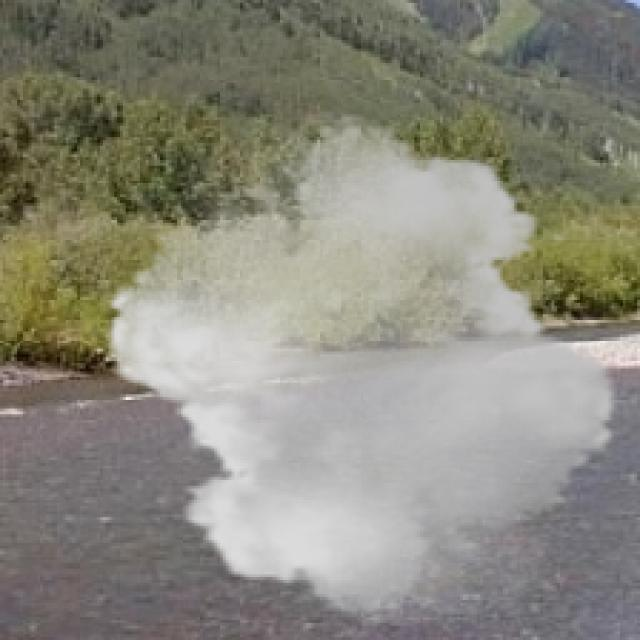Smoke: (85, 111, 638, 626)
